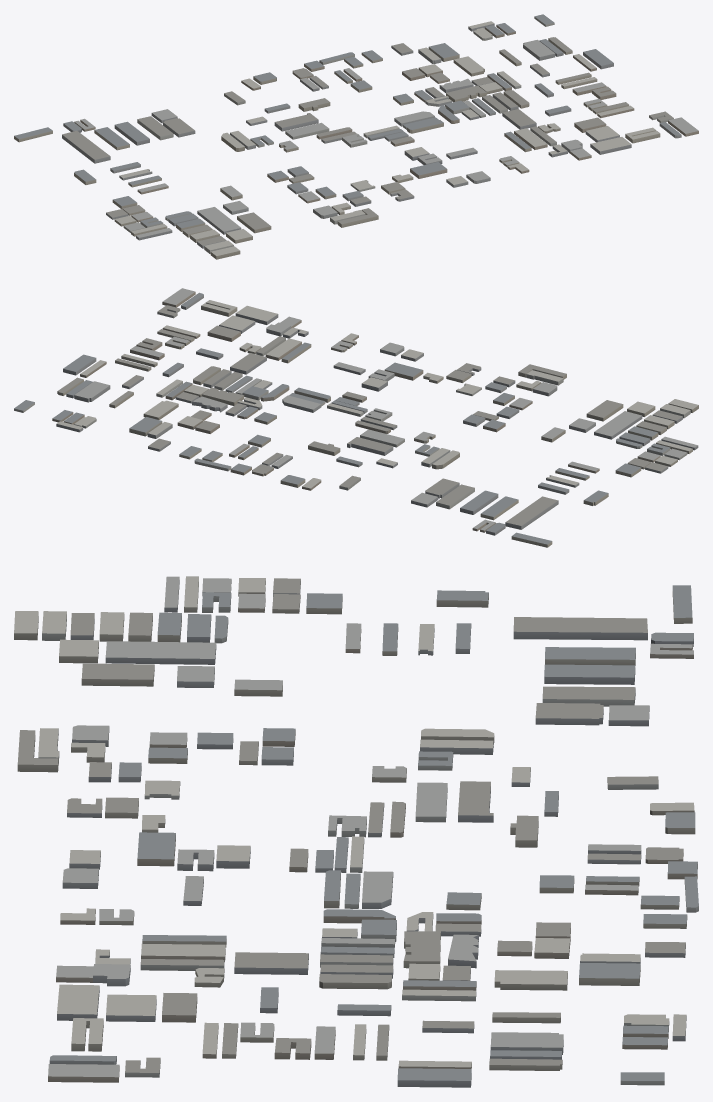
File: bld_16_8.fbx
3 views of the same model, one above another, from view 1: azimuth 30°, elevation 25°; view 2: azimuth 150°, elevation 25°; view 3: azimuth 270°, elevation 25° (orthographic). The views are drawn at different scales.
Parts seen in each view (by area): view 1: bld_16_8_LOD0; view 2: bld_16_8_LOD0; view 3: bld_16_8_LOD0.
Part boxes in pixels (<box>): bld_16_8_LOD0: <box>14,14,698,259</box>; bld_16_8_LOD0: <box>14,288,698,547</box>; bld_16_8_LOD0: <box>14,576,698,1087</box>.
Size of the model in its own units: 1995 by 13.89 by 1141.
